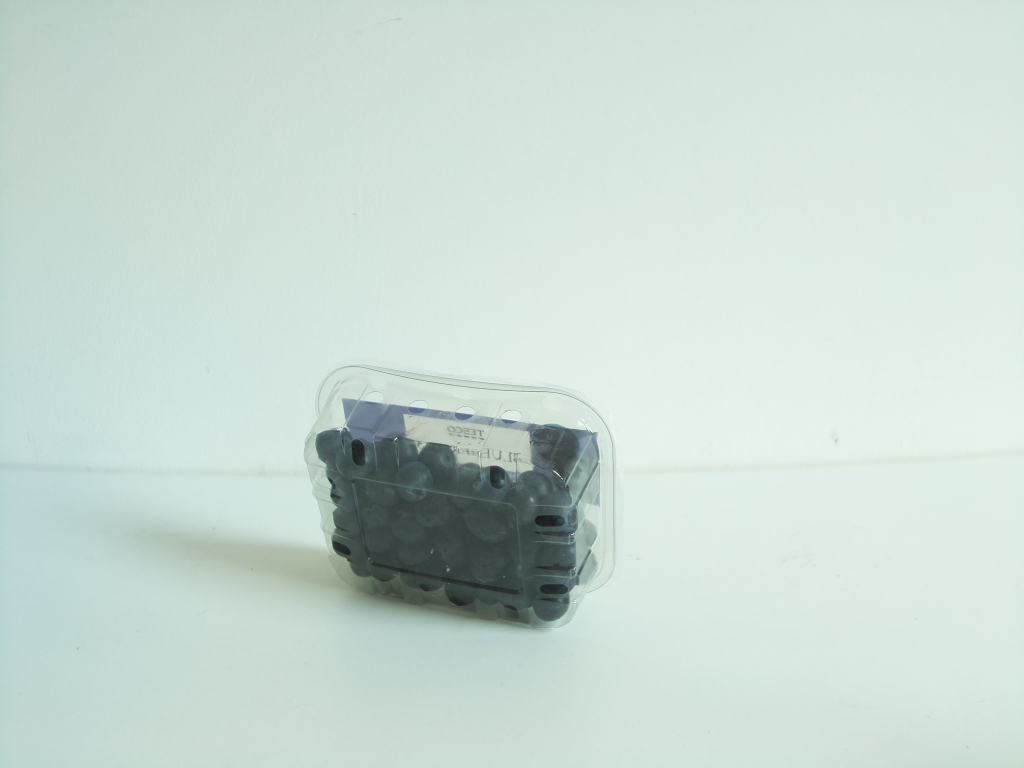soft-fruit: (303, 366, 615, 628)
